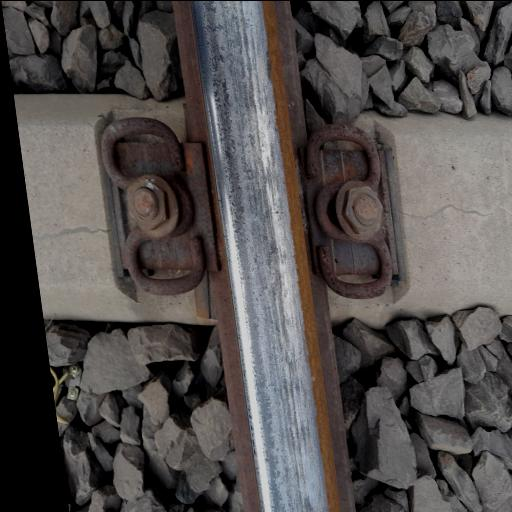bolt: (104, 164, 181, 242), (342, 176, 389, 244)
clip: (84, 114, 215, 302), (293, 120, 406, 304)
rail: (177, 5, 340, 479)
